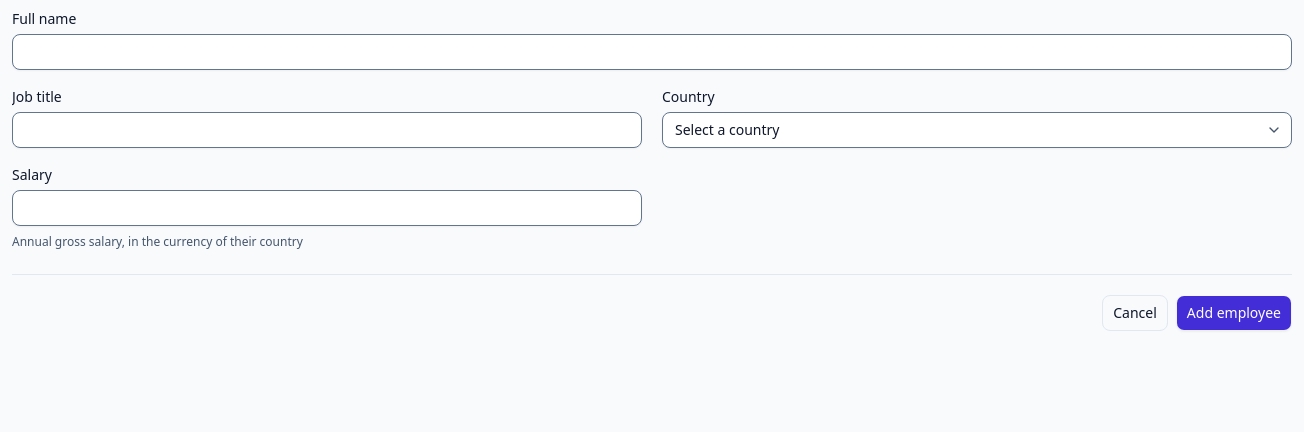
Test: EmployeeForm › clears a field's error as soon as it is corrected
The width and height of the screenshot is (1304, 432).
Step 1. Click the button "Add employee" → (1234, 313), box [1176, 295, 1292, 331]
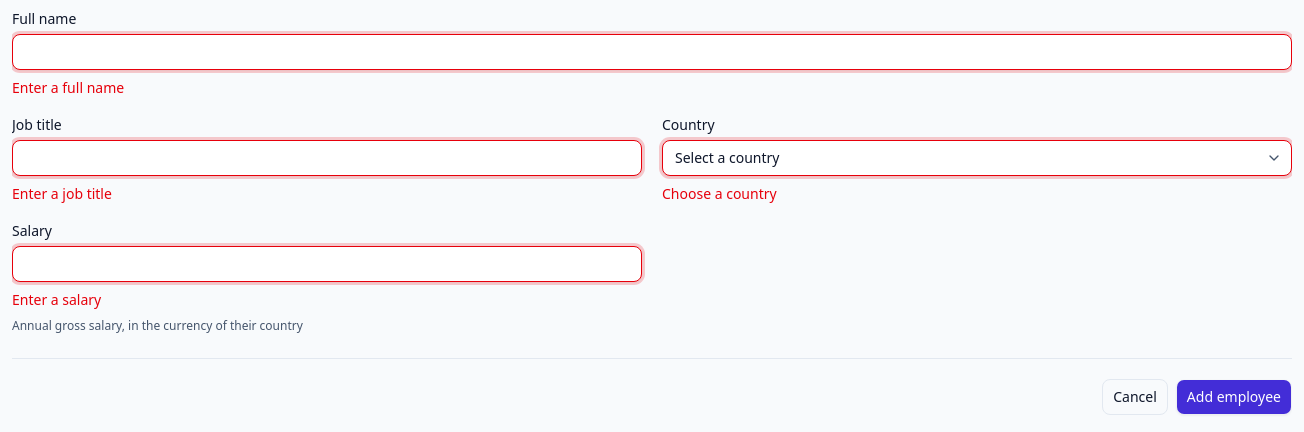
Step 2. Type "Asha Rao" into the field labelled "Full name" → (652, 52), box [12, 34, 1292, 70]
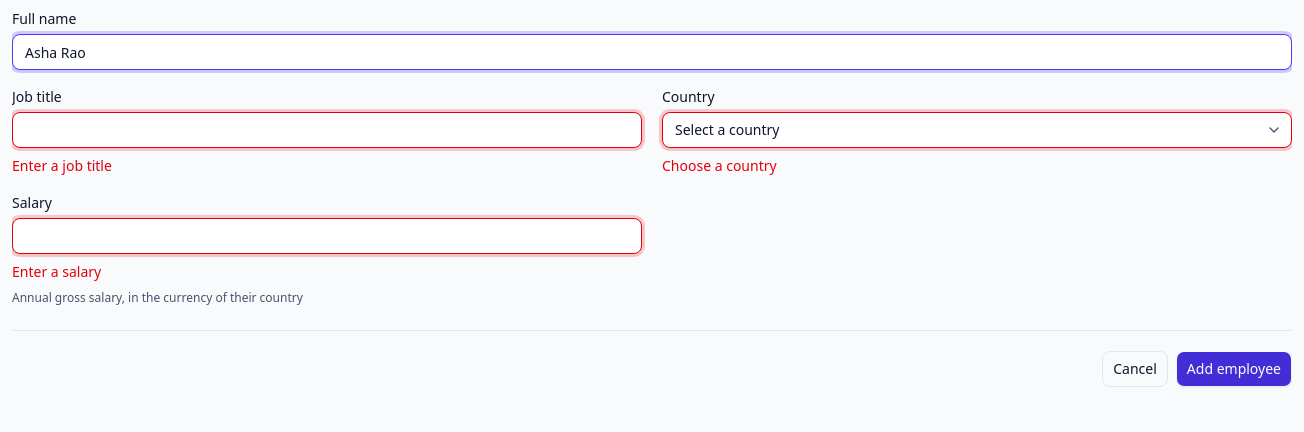
Now the text "Enter a job title" is shown, box [12, 156, 112, 175]
Now the text "Enter a full name" is gone
